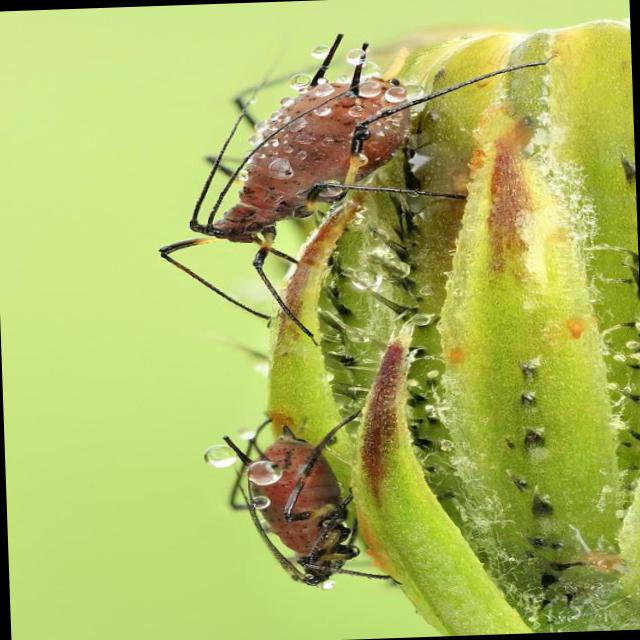Aphids: (134, 55, 479, 342), (191, 400, 398, 604)
